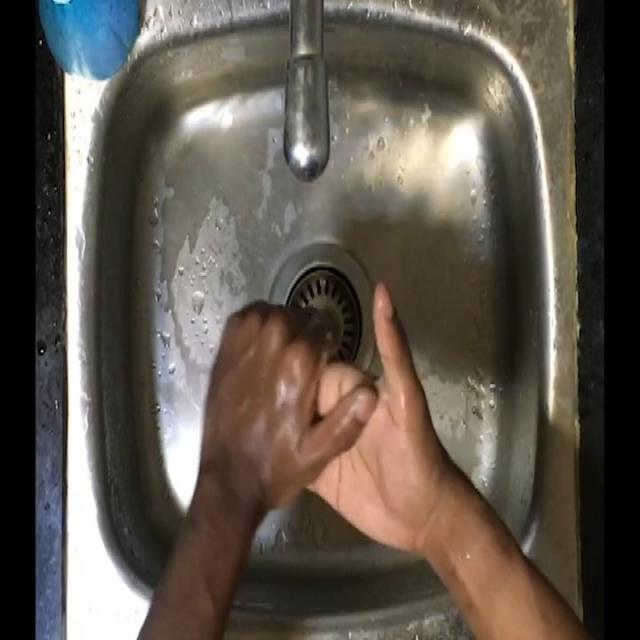step_5: (200, 276, 427, 556)
